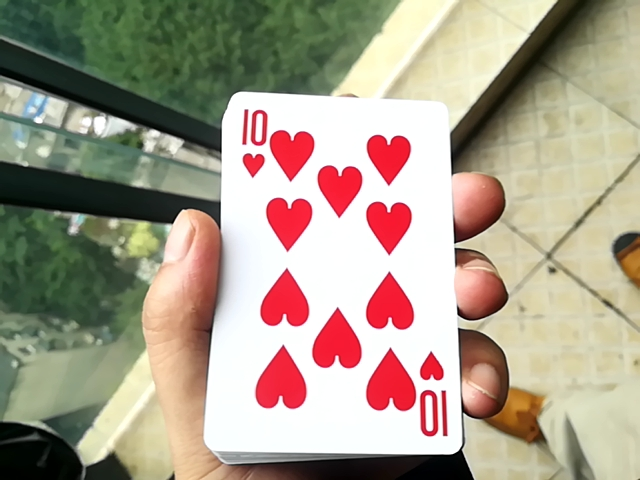hx 10: (195, 78, 451, 451)
